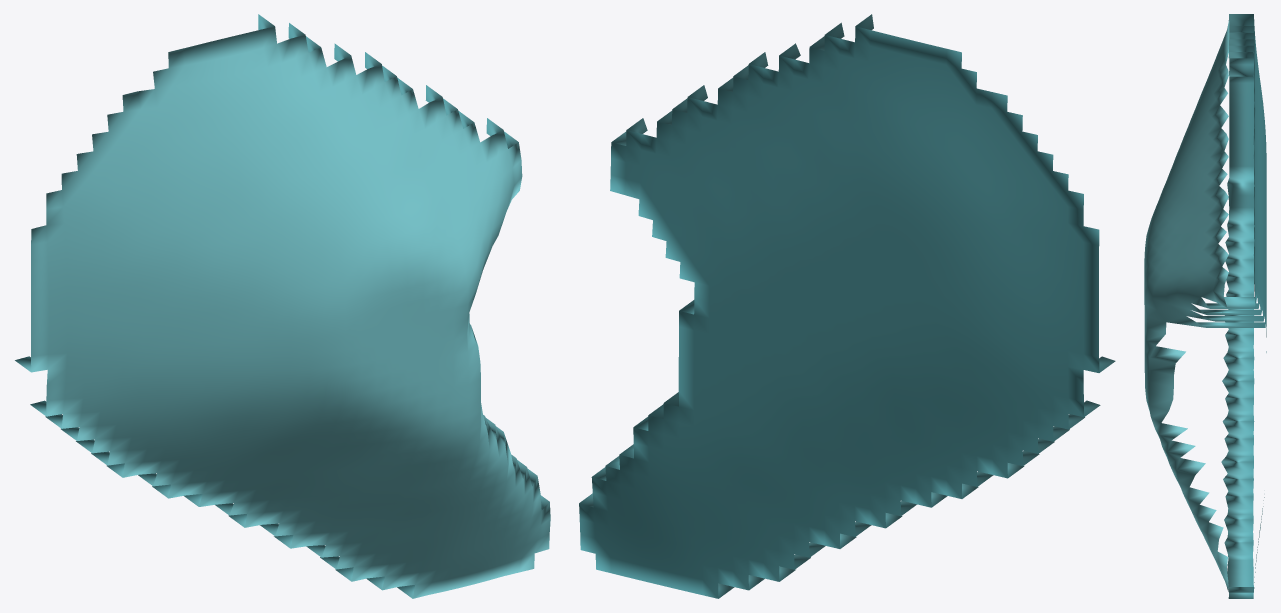
The model's file is PAIR-OFFLOAD-4TH-5TH_RIGHT_addon.glb.
3 renders of one model, left to right at view 1: azimuth 30°, elevation 25°; view 2: azimuth 150°, elevation 25°; view 3: azimuth 270°, elevation 25°, orthographic. The views are drawn at different scales.
Visible parts, largest first — view 1: geometry_0; view 2: geometry_0; view 3: geometry_0.
Part boxes in pixels (left/top/right/bottom): geometry_0: left=15, top=14, right=550, bottom=598; geometry_0: left=579, top=14, right=1115, bottom=598; geometry_0: left=1144, top=14, right=1266, bottom=598.
Size of the model in its own units: 34 by 38 by 9.34.
